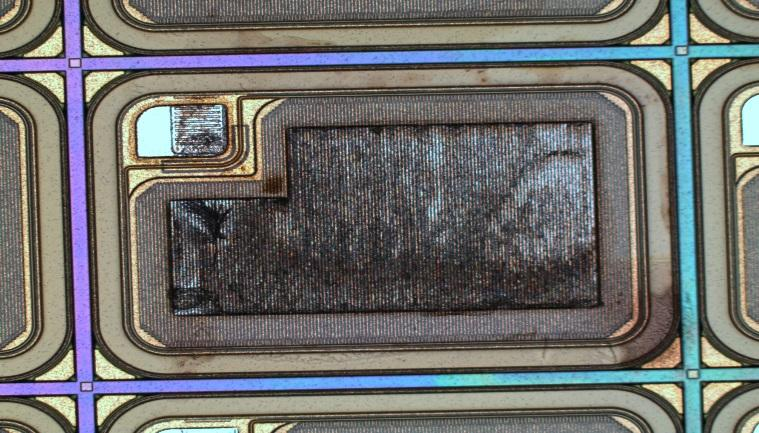SEZ BURNT: (136, 13, 688, 386)
